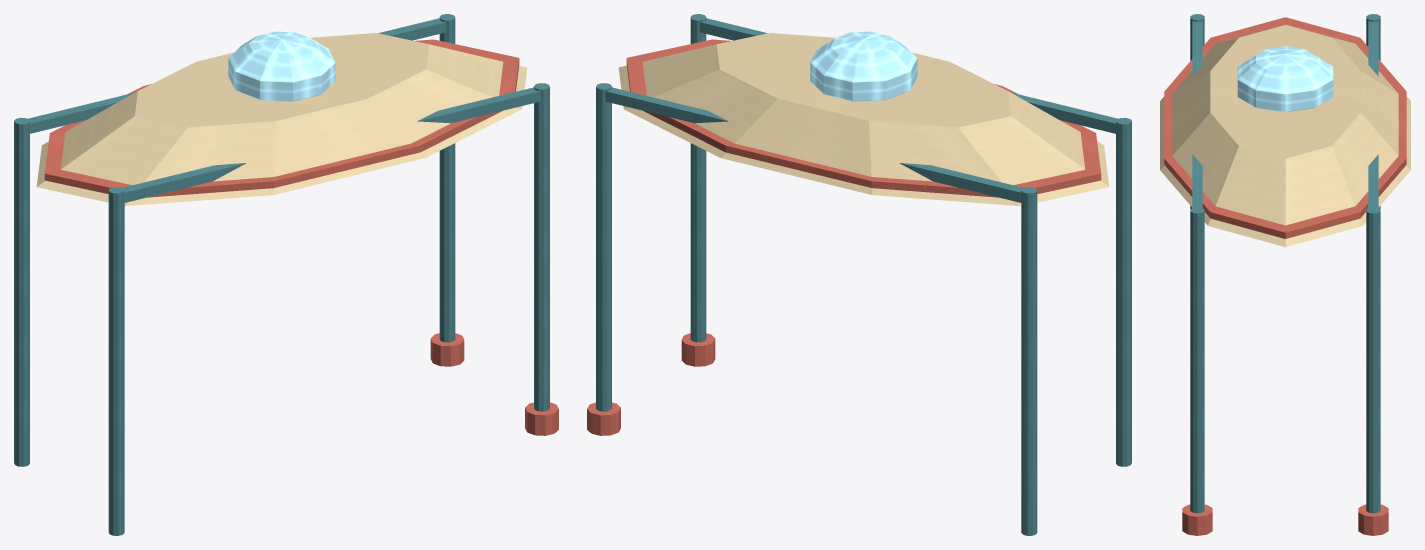
The model's file is atlas100-s071-a08.lod1.glb.
3 renders of one model, left to right at view 1: azimuth 30°, elevation 25°; view 2: azimuth 150°, elevation 25°; view 3: azimuth 270°, elevation 25°, orthographic. The views are drawn at different scales.
Parts seen in each view (by area): view 1: atlas100-s071-a08:part-010, atlas100-s071-a08:part-011, atlas100-s071-a08:part-012, atlas100-s071-a08:part-002, atlas100-s071-a08:part-000, atlas100-s071-a08:part-006, atlas100-s071-a08:part-004, atlas100-s071-a08:part-009, atlas100-s071-a08:part-008, atlas100-s071-a08:part-005, atlas100-s071-a08:part-007; view 2: atlas100-s071-a08:part-010, atlas100-s071-a08:part-011, atlas100-s071-a08:part-012, atlas100-s071-a08:part-000, atlas100-s071-a08:part-002, atlas100-s071-a08:part-004, atlas100-s071-a08:part-006, atlas100-s071-a08:part-008, atlas100-s071-a08:part-009, atlas100-s071-a08:part-007, atlas100-s071-a08:part-005; view 3: atlas100-s071-a08:part-010, atlas100-s071-a08:part-011, atlas100-s071-a08:part-012, atlas100-s071-a08:part-004, atlas100-s071-a08:part-006, atlas100-s071-a08:part-008, atlas100-s071-a08:part-009, atlas100-s071-a08:part-005, atlas100-s071-a08:part-007.
Part boxes in pixels (x1,y1,x2,y2): atlas100-s071-a08:part-010: (36, 33, 527, 206); atlas100-s071-a08:part-011: (44, 39, 519, 197); atlas100-s071-a08:part-012: (228, 31, 335, 101); atlas100-s071-a08:part-002: (108, 187, 124, 535); atlas100-s071-a08:part-000: (14, 117, 29, 466); atlas100-s071-a08:part-006: (534, 83, 549, 411); atlas100-s071-a08:part-004: (439, 14, 455, 342); atlas100-s071-a08:part-009: (122, 87, 540, 202); atlas100-s071-a08:part-008: (28, 18, 445, 133); atlas100-s071-a08:part-005: (430, 333, 464, 366); atlas100-s071-a08:part-007: (525, 402, 558, 435); atlas100-s071-a08:part-010: (618, 33, 1109, 206); atlas100-s071-a08:part-011: (626, 39, 1101, 197); atlas100-s071-a08:part-012: (810, 31, 917, 101); atlas100-s071-a08:part-000: (1021, 187, 1037, 535); atlas100-s071-a08:part-002: (1116, 117, 1131, 466); atlas100-s071-a08:part-004: (596, 83, 611, 411); atlas100-s071-a08:part-006: (690, 14, 706, 342); atlas100-s071-a08:part-008: (605, 87, 1023, 202); atlas100-s071-a08:part-009: (700, 18, 1117, 133); atlas100-s071-a08:part-007: (681, 333, 715, 366); atlas100-s071-a08:part-005: (587, 402, 620, 435); atlas100-s071-a08:part-010: (1160, 24, 1410, 246); atlas100-s071-a08:part-011: (1164, 17, 1406, 238); atlas100-s071-a08:part-012: (1237, 46, 1333, 112); atlas100-s071-a08:part-004: (1366, 207, 1380, 513); atlas100-s071-a08:part-006: (1190, 207, 1204, 513); atlas100-s071-a08:part-008: (1368, 21, 1378, 207); atlas100-s071-a08:part-009: (1192, 21, 1202, 207); atlas100-s071-a08:part-005: (1358, 504, 1388, 535); atlas100-s071-a08:part-007: (1182, 504, 1212, 535).
Size of the model in its own units: 6 by 4.75 by 2.85.
Materials: 4 (4 with a texture image).
